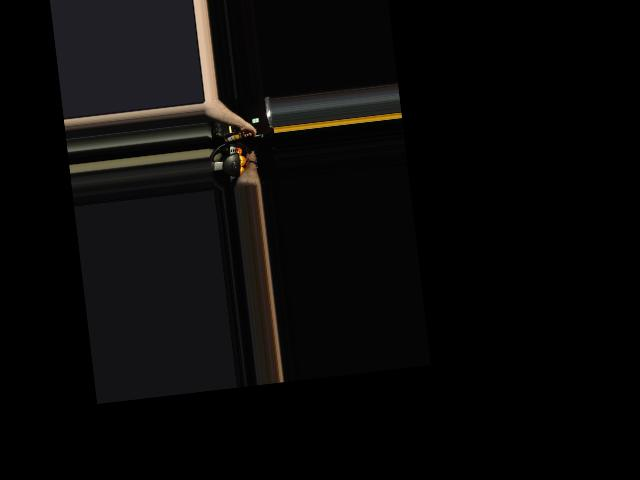beer: (223, 127, 257, 143)
